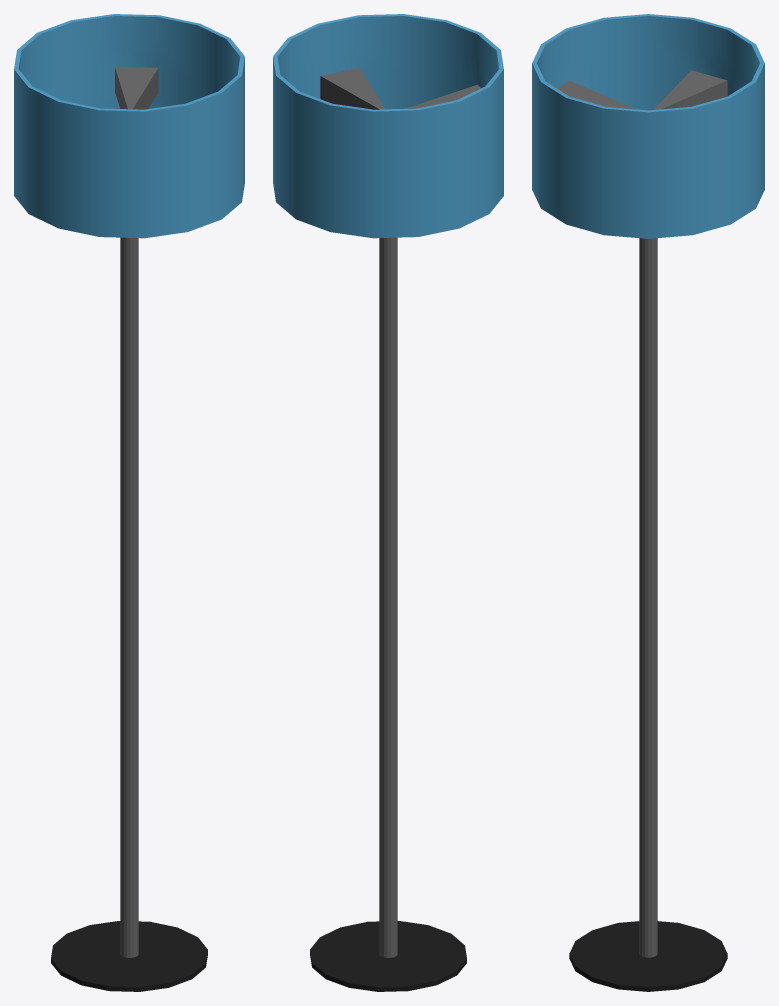
File: lampa.FBX
The picture shows the model from 3 angles, left to right: view 1: azimuth 30°, elevation 25°; view 2: azimuth 150°, elevation 25°; view 3: azimuth 270°, elevation 25°; orthographic projection.
Parts seen in each view (by area): view 1: lampa_noga; view 2: lampa_noga; view 3: lampa_noga.
Boxes of the visible parts, x1,y1,x2,y2 form: lampa_noga: (14,14,244,991); lampa_noga: (273,14,503,991); lampa_noga: (532,14,764,991).
Size of the model in its own units: 50 by 216 by 50.
